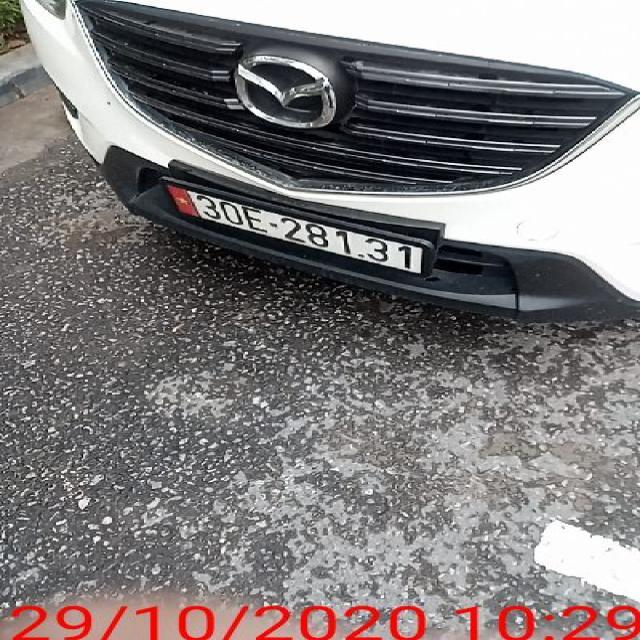bien_so_oto: (185, 188, 438, 281)
